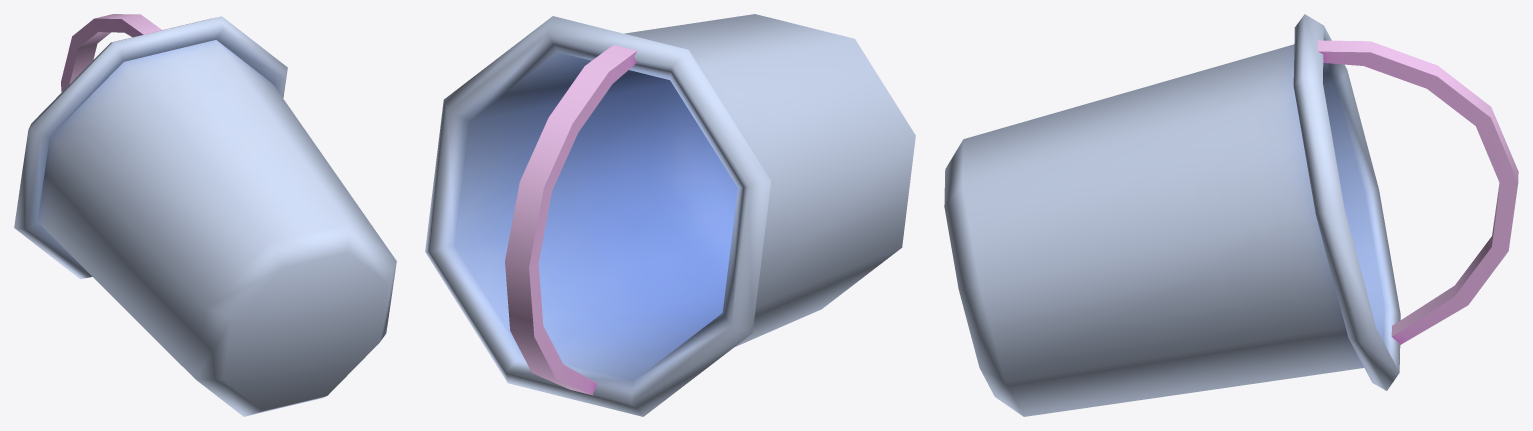
The model's file is toy_trash.DAE.
3 renders of one model, left to right at view 1: azimuth 30°, elevation 25°; view 2: azimuth 150°, elevation 25°; view 3: azimuth 270°, elevation 25°, orthographic. The views are drawn at different scales.
Parts seen in each view (by area): view 1: toy_trash; view 2: toy_trash; view 3: toy_trash.
Boxes of the visible parts, box(x1,y1,x2,y2) form: toy_trash: box(14, 14, 396, 416); toy_trash: box(425, 14, 915, 416); toy_trash: box(944, 14, 1518, 416).
Size of the model in its own units: 255 by 410 by 276.
1 material, 1 textured.
